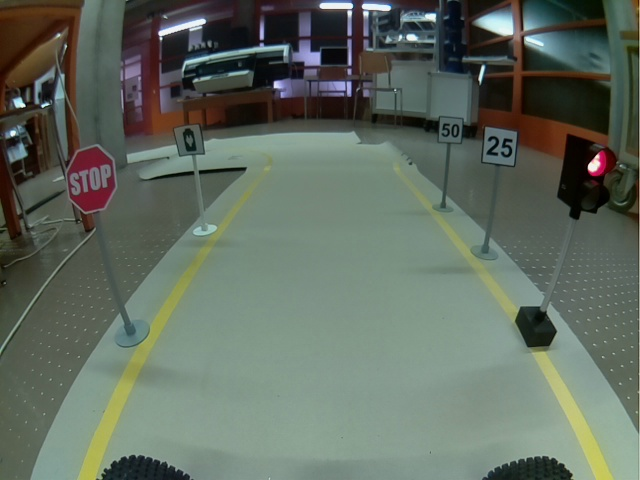battery: (173, 124, 206, 156)
speed25: (481, 125, 518, 167)
speed50: (437, 116, 464, 144)
stop: (65, 144, 118, 215)
trafficLightRed: (557, 134, 617, 214)
